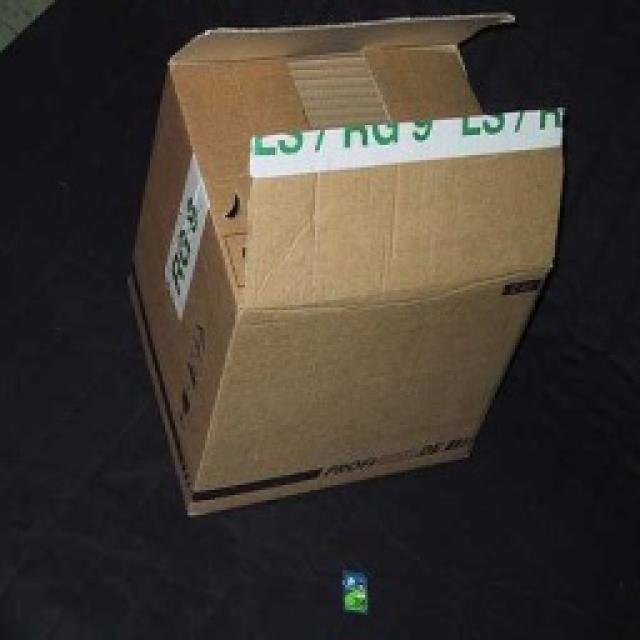box: (86, 35, 537, 518)
